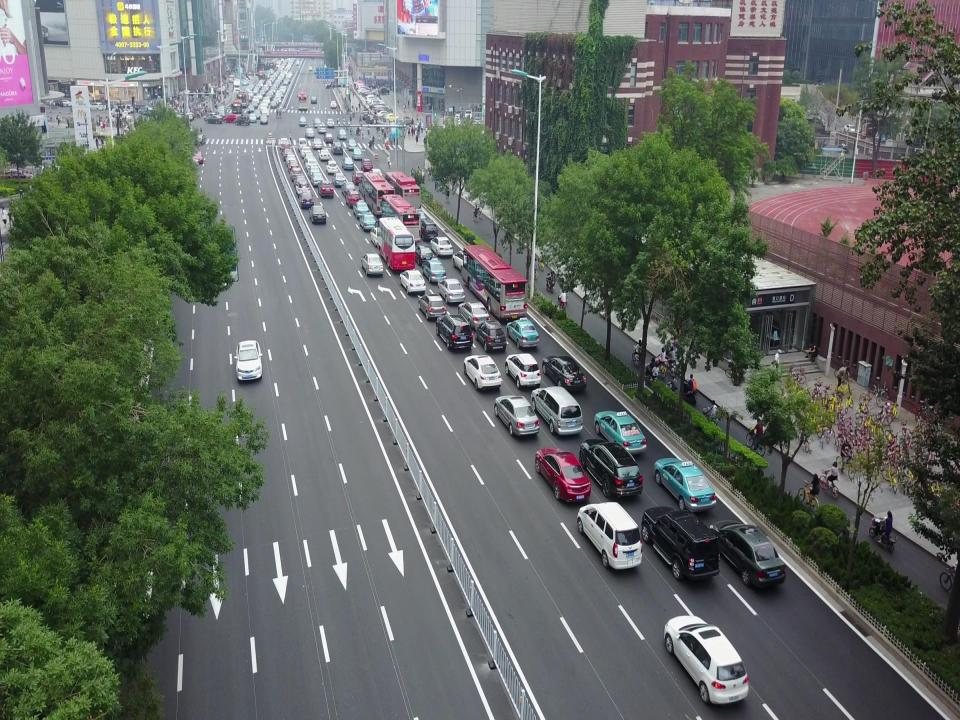bus: (461, 244, 527, 318), (375, 217, 417, 272), (382, 195, 420, 248), (359, 173, 395, 217), (296, 91, 308, 111)
car: (665, 616, 748, 703), (641, 504, 721, 581), (712, 519, 783, 587), (576, 503, 644, 570), (577, 437, 643, 504), (654, 455, 717, 512), (534, 447, 592, 503), (595, 410, 647, 456), (493, 395, 539, 440), (542, 354, 586, 392), (434, 312, 474, 351), (464, 354, 502, 392), (234, 339, 265, 383), (505, 354, 541, 391), (476, 321, 508, 354), (507, 318, 541, 349), (459, 300, 489, 330), (419, 294, 447, 322), (437, 278, 465, 305), (398, 268, 426, 295), (423, 257, 447, 285), (361, 253, 384, 279), (431, 238, 453, 258), (418, 219, 438, 241), (413, 245, 434, 265), (369, 228, 389, 247), (308, 205, 326, 225), (359, 213, 377, 231), (344, 191, 360, 208), (318, 181, 334, 198), (353, 201, 369, 217), (299, 192, 314, 209), (332, 172, 346, 187), (325, 160, 339, 175), (351, 171, 365, 185), (296, 182, 310, 196), (310, 174, 324, 187), (341, 157, 354, 170), (341, 183, 355, 195), (360, 159, 374, 171), (331, 142, 343, 155), (351, 147, 363, 160), (286, 160, 299, 172), (292, 176, 306, 187), (318, 149, 330, 161), (311, 138, 323, 150), (305, 158, 319, 168), (299, 146, 311, 157), (284, 154, 296, 165), (322, 133, 334, 143), (303, 153, 315, 163), (308, 167, 320, 177), (305, 127, 315, 138), (312, 117, 322, 128), (346, 139, 356, 150), (282, 149, 293, 159), (298, 115, 307, 127), (378, 87, 390, 96), (316, 124, 326, 134), (337, 130, 347, 140), (281, 142, 291, 152), (366, 115, 376, 125), (279, 138, 288, 149), (324, 119, 334, 128), (329, 100, 337, 109), (310, 96, 317, 104), (326, 80, 330, 88), (308, 65, 312, 71)
van: (530, 385, 584, 436), (290, 169, 302, 180), (297, 137, 307, 150)
